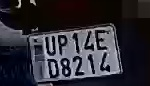1: (86, 52, 97, 75), (71, 34, 82, 54)
2: (70, 54, 86, 77)
4: (98, 52, 114, 74), (82, 30, 94, 55)
8: (59, 57, 74, 78)
D: (43, 57, 61, 80)
E: (93, 29, 109, 52)
P: (58, 34, 68, 55)
U: (43, 34, 58, 57)
